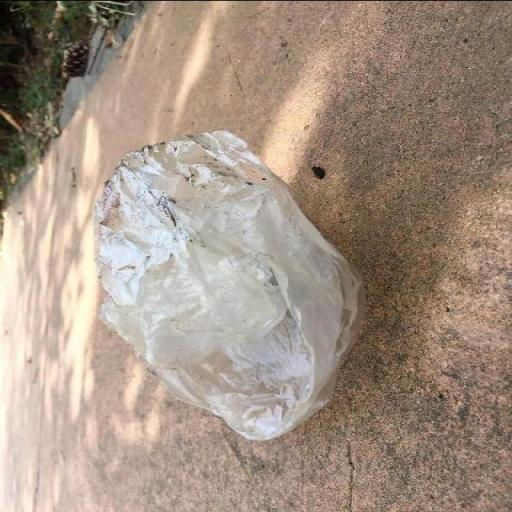plastic-bag: (88, 128, 368, 445)
